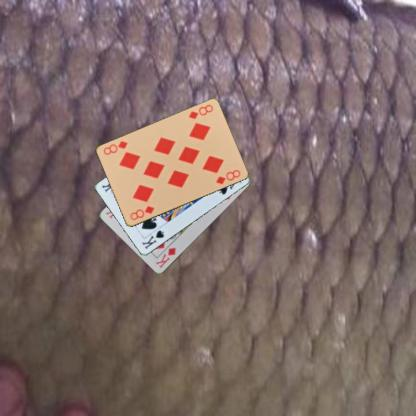8d: (186, 102, 214, 121), (127, 204, 156, 222)
Kd: (153, 245, 177, 269)
Ks: (139, 228, 165, 250)
